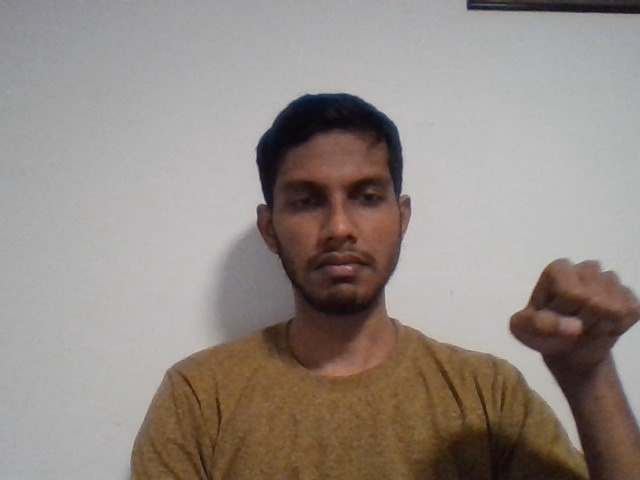yes: (484, 252, 640, 380)
